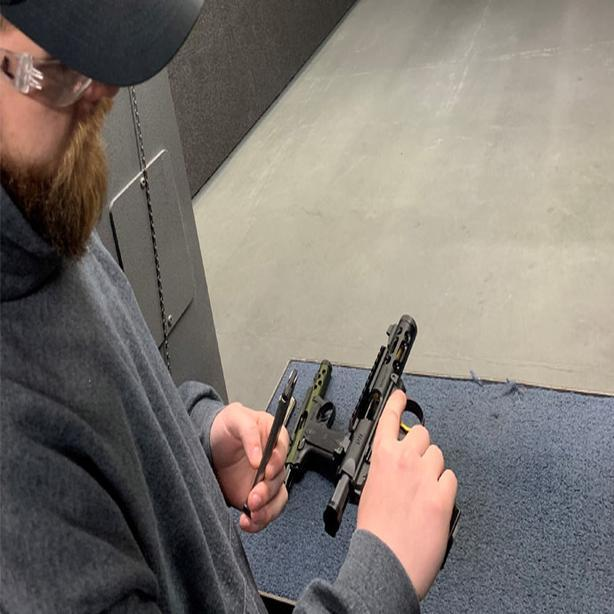Firearm: (324, 302, 474, 579), (269, 345, 376, 499)
